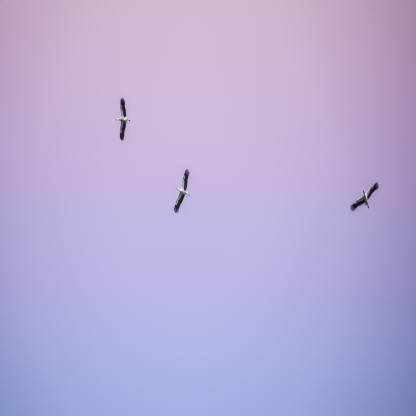bird: (350, 182, 378, 214), (173, 167, 191, 212), (115, 98, 131, 141)
